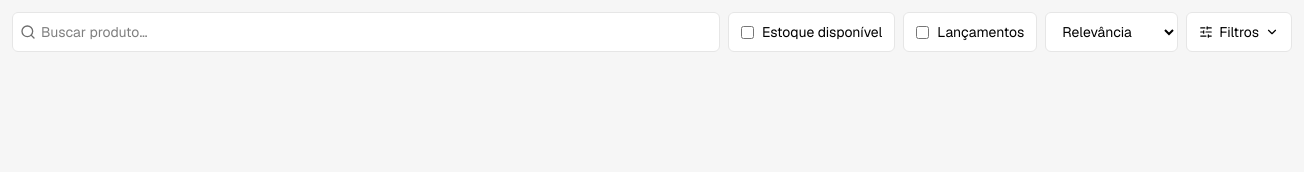
Scenario: CatalogFilters › shows an active-filter count badge on the Filtros button once a facet is selected
Click the button "Filtros" at (1239, 32), box [1186, 12, 1292, 52]
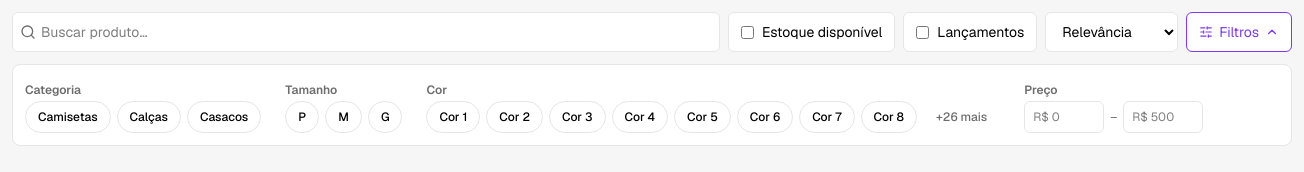
Click the button "Camisetas" at (68, 117), box [25, 101, 111, 133]
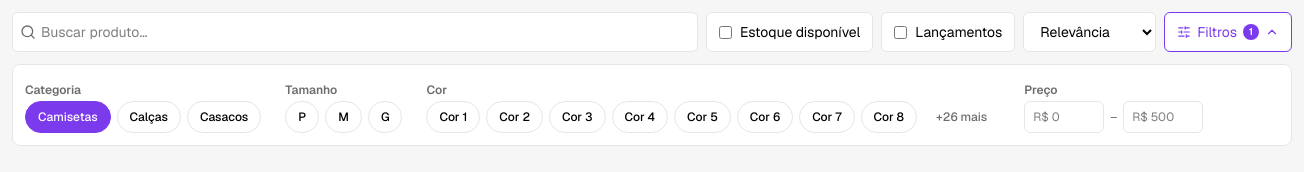
Result: the text "1" is shown at [1243, 24, 1259, 40]
